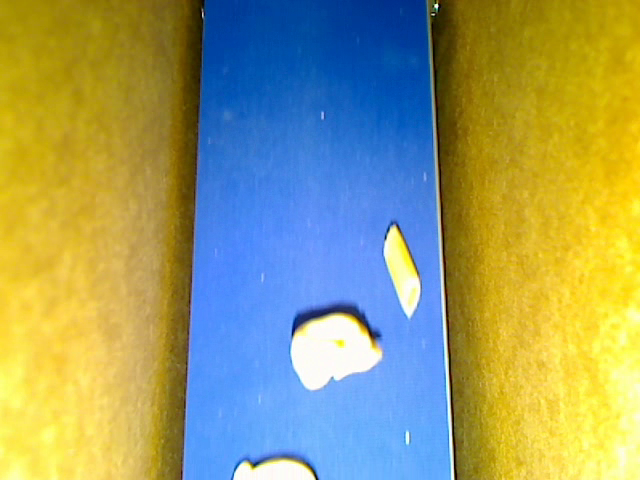penne: (382, 222, 420, 318)
tortellini: (290, 310, 380, 390), (230, 456, 318, 479)
